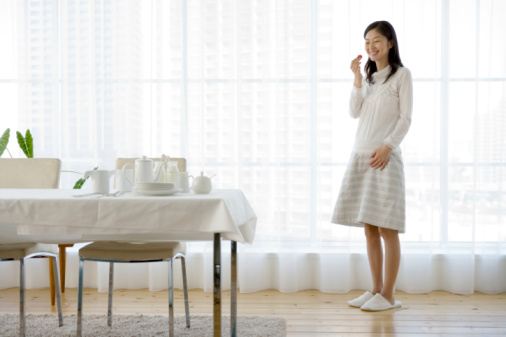em pe: (342, 18, 420, 326)
